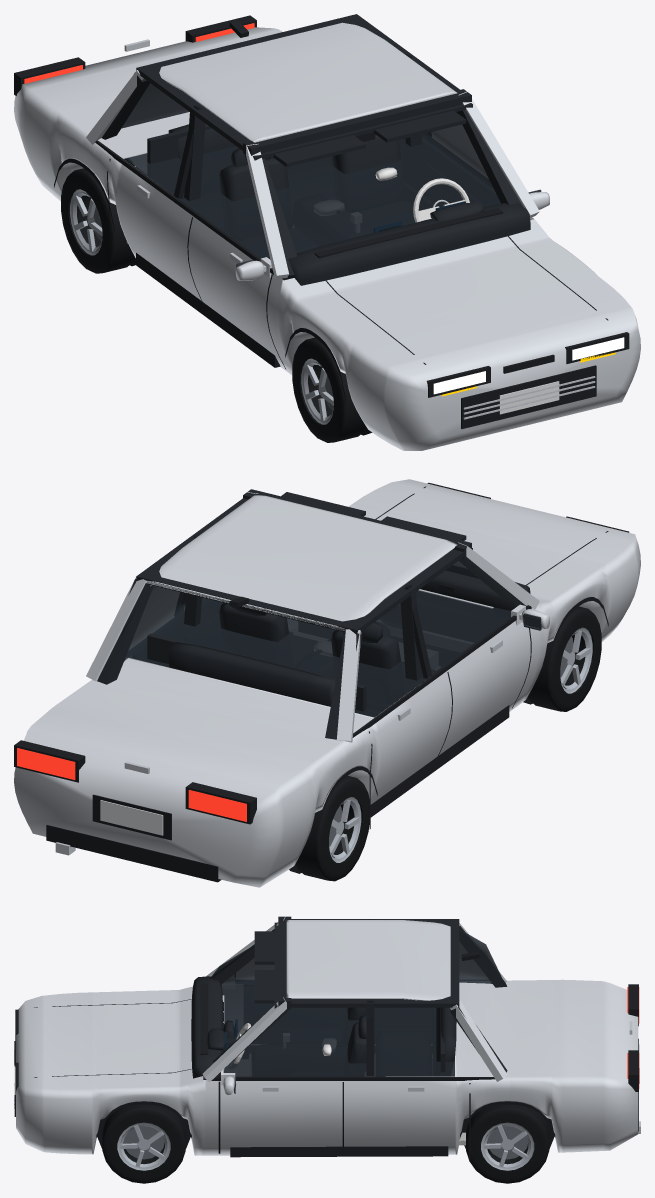
File: car_sedan.glb
3 views of the same model, one above another, from view 1: azimuth 30°, elevation 25°; view 2: azimuth 150°, elevation 25°; view 3: azimuth 270°, elevation 25° (orthographic). The views are drawn at different scales.
Visible parts, largest first — view 1: Body, Cabin, Glass, Trim, Wheel_RR, Wheel_FR, Seats, Chrome, HeadLamp, PlateF, SteeringWheel; view 2: Body, Glass, Cabin, Trim, Seats, Wheel_RR, Wheel_FR, TailLamp, PlateR, Chrome; view 3: Body, Glass, Cabin, Trim, Wheel_RL, Wheel_FL, Seats.
Boxes of the visible parts, box(x1,y1,x2,y2) form: Body: box(14, 22, 640, 450); Cabin: box(102, 14, 530, 285); Glass: box(121, 83, 500, 279); Trim: box(14, 15, 629, 435); Wheel_RR: box(61, 168, 135, 273); Wheel_FR: box(292, 337, 366, 442); Seats: box(168, 123, 400, 280); Chrome: box(124, 39, 595, 419); HeadLamp: box(433, 337, 624, 394); PlateF: box(499, 381, 559, 414); SteeringWheel: box(375, 167, 469, 222); Body: box(14, 479, 640, 887); Glass: box(120, 561, 510, 716); Cabin: box(97, 489, 530, 739); Trim: box(14, 482, 629, 882); Seats: box(168, 603, 401, 717); Wheel_RR: box(295, 775, 369, 881); Wheel_FR: box(527, 606, 601, 711); TailLamp: box(17, 748, 246, 821); PlateR: box(100, 800, 163, 835); Chrome: box(55, 589, 502, 855); Body: box(16, 916, 638, 1155); Glass: box(203, 929, 503, 1079); Cabin: box(191, 916, 507, 1079); Trim: box(14, 919, 638, 1160); Wheel_RL: box(466, 1104, 549, 1183); Wheel_FL: box(102, 1104, 185, 1183); Seats: box(347, 1007, 456, 1063).
Bounding box in the file's own units: 2.08 × 1.49 × 4.66.
17 materials, 4 textured.
